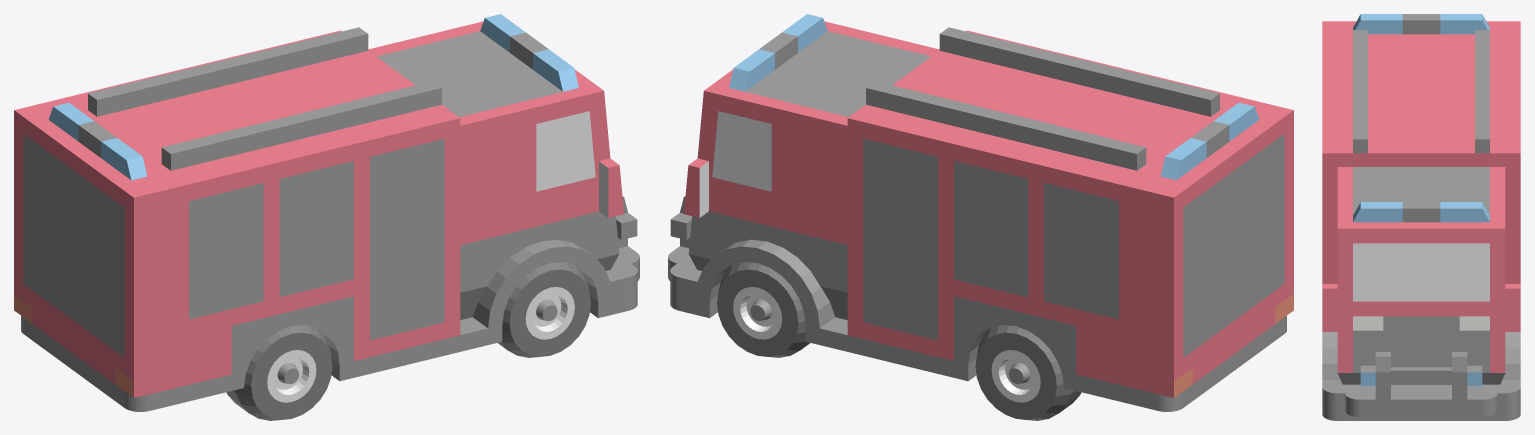
File: FireTruck.dae
3 renders of one model, left to right at view 1: azimuth 30°, elevation 25°; view 2: azimuth 150°, elevation 25°; view 3: azimuth 270°, elevation 25°, orthographic. The views are drawn at different scales.
Visible parts, largest first — view 1: body, wheel_backLeft, wheel_frontLeft, grill; view 2: body, wheel_backRight, wheel_frontRight, grill; view 3: body, grill.
Boxes of the visible parts, <box> form: body: <box>14,14,637,411</box>; wheel_backLeft: <box>226,325,332,420</box>; wheel_frontLeft: <box>498,262,590,357</box>; grill: <box>615,196,639,280</box>; body: <box>670,14,1293,411</box>; wheel_backRight: <box>975,325,1081,420</box>; wheel_frontRight: <box>717,262,809,357</box>; grill: <box>668,196,692,280</box>; body: <box>1322,14,1520,420</box>; grill: <box>1345,352,1497,417</box>.
Bounding box in the file's own units: 2.48 × 0.975 × 1.28.
